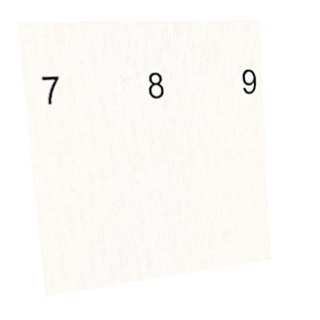eight: (147, 71, 165, 99)
nine: (238, 68, 260, 98)
seven: (40, 72, 60, 107)
